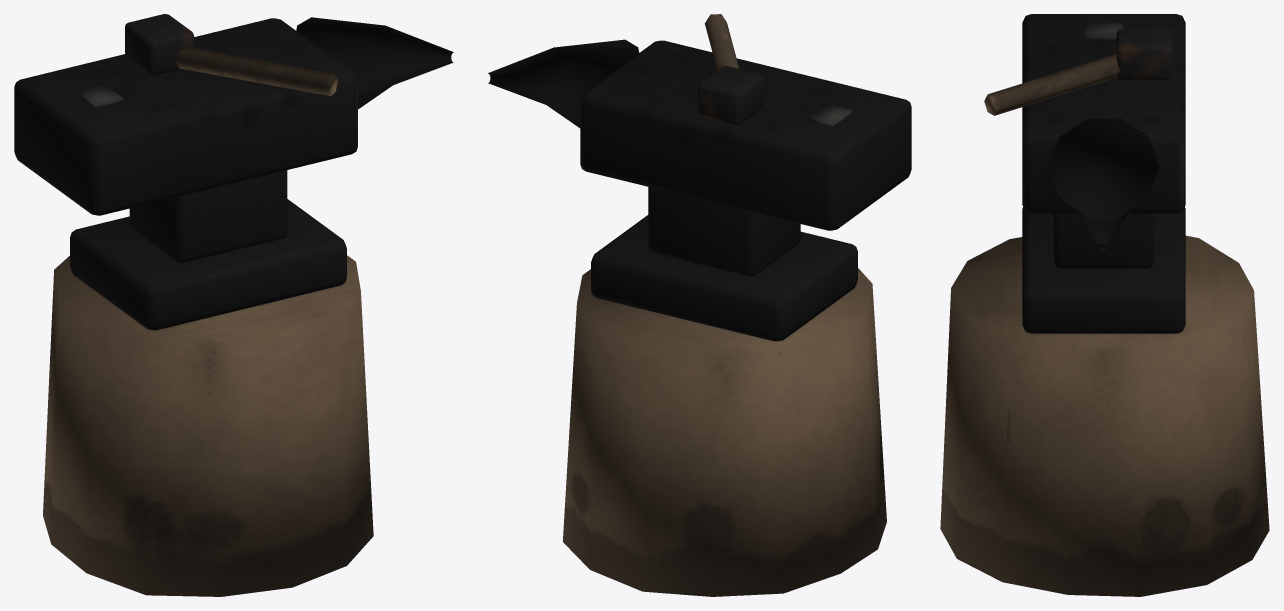
File: foundry_anvil.obj
3 views of the same model, side by side, from view 1: azimuth 30°, elevation 25°; view 2: azimuth 150°, elevation 25°; view 3: azimuth 270°, elevation 25° (orthographic). The views are drawn at different scales.
Parts seen in each view (by area): view 1: part2, part0, part1, part3; view 2: part2, part0, part1, part3; view 3: part2, part0, part1, part3.
Boxes of the visible parts, x1=… form: part2: x1=43, y1=47, x2=373, y2=596; part0: x1=14, y1=17, x2=453, y2=330; part1: x1=125, y1=14, x2=194, y2=75; part3: x1=76, y1=84, x2=123, y2=107; part2: x1=563, y1=14, x2=886, y2=596; part0: x1=488, y1=39, x2=911, y2=341; part1: x1=697, y1=66, x2=764, y2=124; part3: x1=806, y1=103, x2=852, y2=126; part2: x1=940, y1=54, x2=1269, y2=596; part0: x1=1022, y1=14, x2=1185, y2=333; part1: x1=1116, y1=28, x2=1172, y2=79; part3: x1=1085, y1=23, x2=1122, y2=39.
Bounding box in the file's own units: 0.7219 × 0.8439 × 0.524.
